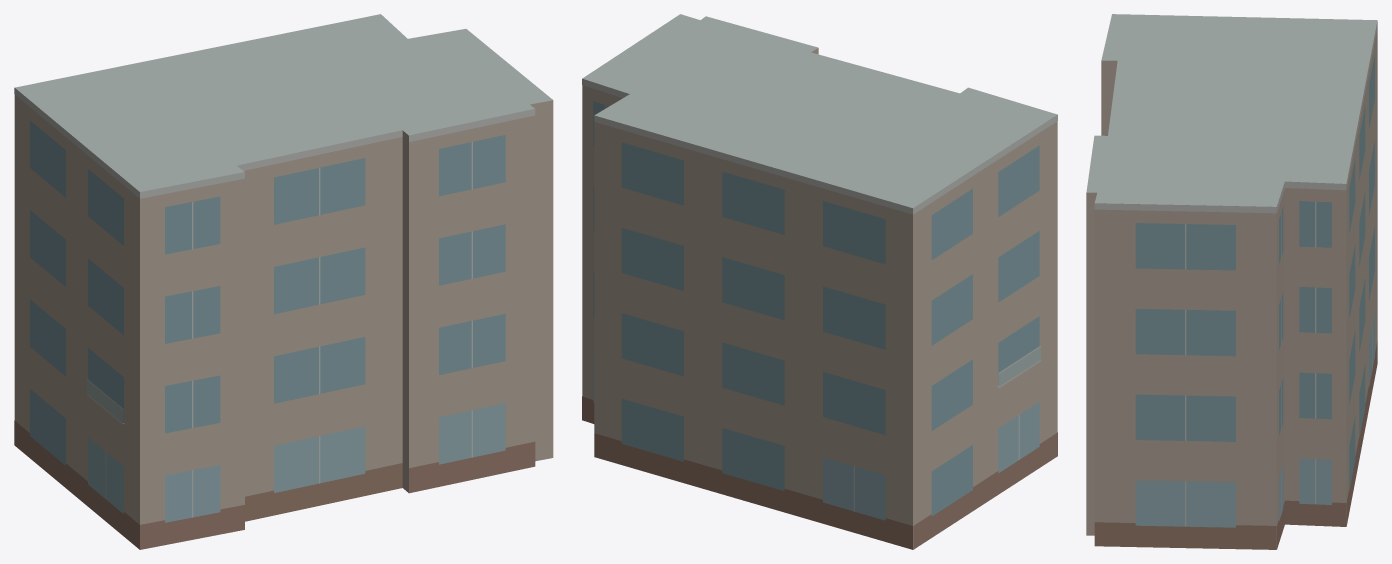
The model's file is survey-upis-32726740.glb.
3 renders of one model, left to right at view 1: azimuth 30°, elevation 25°; view 2: azimuth 150°, elevation 25°; view 3: azimuth 270°, elevation 25°, orthographic. The views are drawn at different scales.
Parts seen in each view (by area): view 1: survey-upis-32726740.tmp; view 2: survey-upis-32726740.tmp; view 3: survey-upis-32726740.tmp.
Boxes of the visible parts, x1=… form: survey-upis-32726740.tmp: x1=14, y1=14, x2=553, y2=549; survey-upis-32726740.tmp: x1=582, y1=14, x2=1057, y2=549; survey-upis-32726740.tmp: x1=1086, y1=14, x2=1377, y2=549.
Bounding box in the file's own units: 15.79 × 13.09 × 10.08.
